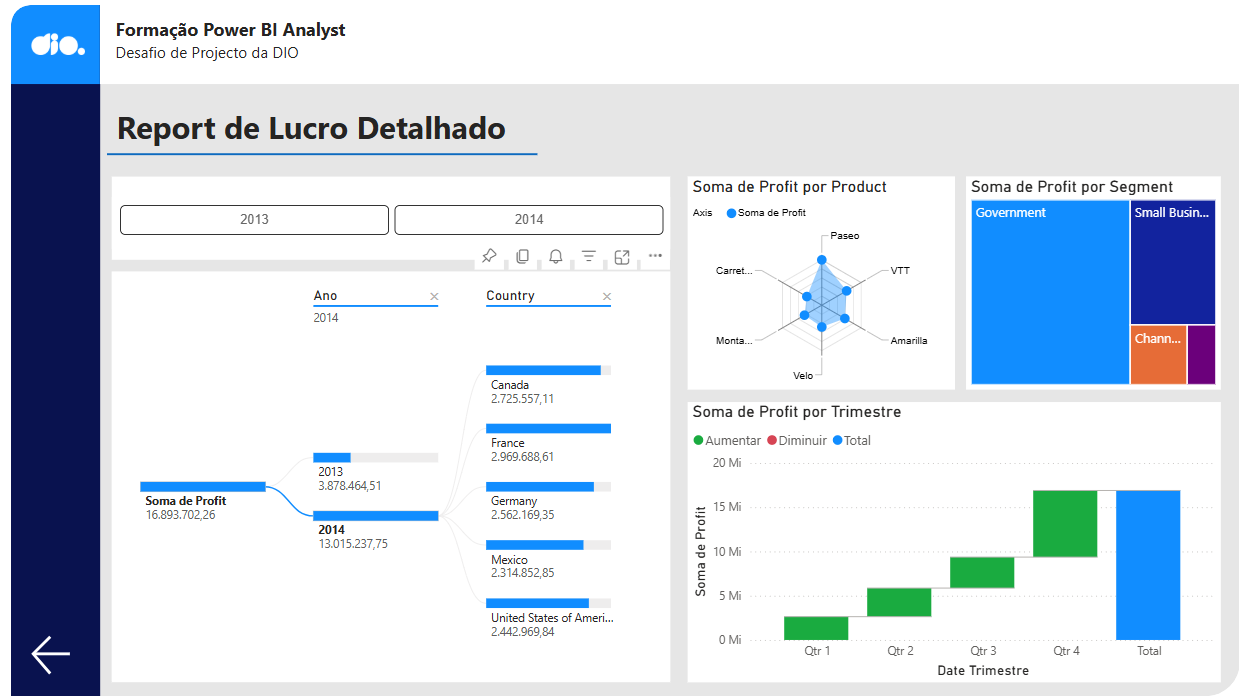

Layout of this report page (visuals, bound fields, positions):
{"tool":"powerbi","page":{"name":"Página 2","canvas":[1280,720],"ordinal":1},"visuals":[{"type":"shape","box":[0,0,1280,720],"z":0},{"type":"shape","box":[100,111.7,448.3,88.3],"z":0,"group":"g1"},{"type":"shape","box":[0,0,93.3,720],"z":1000},{"type":"textbox","box":[105.5,100,461.4,54.3],"z":1000,"group":"g1"},{"type":"shape","box":[0,0,92.9,82.9],"z":2000},{"type":"image","title":"dio_logo","box":[15.7,11.4,65.7,58.6],"z":3000},{"type":"shape","box":[92.9,0,1187.1,82.9],"z":4000},{"type":"textbox","box":[104.3,7.1,438.6,70],"z":5000},{"type":"group","id":"g1","title":"Title Report","box":[100,100,466.9,100],"z":6000},{"type":"actionButton","box":[16.7,648.3,51.6,56.7],"z":7000},{"type":"shape","box":[105,278.3,581.7,426.7],"z":8000},{"type":"shape","box":[705,413.3,555,291.7],"z":9000},{"type":"shape","box":[995,178.3,265,221.7],"z":10000},{"type":"shape","box":[105,178.3,581.7,86.7],"z":11000},{"type":"shape","box":[705,178.3,278.3,221.7],"z":12000},{"type":"ChicletSlicer1448559807354","fields":{"Category":["financials.Date.Variation.Hierarquia de datas.Ano"]},"box":[105,200,581.7,53.3],"z":13000},{"type":"decompositionTreeVisual","fields":{"Analyze":["Sum(financials.Profit)"],"ExplainBy":["financials.Date.Variation.Hierarquia de datas.Ano","financials.Country"]},"box":[105,278,582,427],"z":14000},{"type":"RadarChart1446119667547","fields":{"Y":["Sum(financials.Profit)"],"Category":["financials.Product"]},"box":[705,178.3,278.3,221.7],"z":15000},{"type":"treemap","fields":{"Values":["Sum(financials.Profit)"],"Group":["financials.Segment"]},"box":[995,178.3,265,221.7],"z":16000},{"type":"waterfallChart","fields":{"Y":["Sum(financials.Profit)"],"Category":["financials.Date.Variation.Hierarquia de datas.Trimestre"]},"box":[705,413.3,555,291.7],"z":17000}]}

Visuals, with their boxes on the page's 1280x720 design canvas (x1, y1, x2, y2). These are canvas units, not pixel positions in the 1246x700 screenshot, which may show the page scaled, cropped or inside an application window:
shape: (left=0, top=0, right=1280, bottom=720)
shape: (left=100, top=112, right=548, bottom=200)
shape: (left=0, top=0, right=93, bottom=720)
textbox: (left=106, top=100, right=567, bottom=154)
shape: (left=0, top=0, right=93, bottom=83)
"dio_logo" image: (left=16, top=11, right=81, bottom=70)
shape: (left=93, top=0, right=1280, bottom=83)
textbox: (left=104, top=7, right=543, bottom=77)
"Title Report" group: (left=100, top=100, right=567, bottom=200)
actionButton: (left=17, top=648, right=68, bottom=705)
shape: (left=105, top=278, right=687, bottom=705)
shape: (left=705, top=413, right=1260, bottom=705)
shape: (left=995, top=178, right=1260, bottom=400)
shape: (left=105, top=178, right=687, bottom=265)
shape: (left=705, top=178, right=983, bottom=400)
ChicletSlicer1448559807354 - financials.Date.Variation.Hierarquia de datas.Ano: (left=105, top=200, right=687, bottom=253)
decompositionTreeVisual - Sum(financials.Profit) x financials.Date.Variation.Hierarquia de datas.Ano: (left=105, top=278, right=687, bottom=705)
RadarChart1446119667547 - Sum(financials.Profit) x financials.Product: (left=705, top=178, right=983, bottom=400)
treemap - Sum(financials.Profit) x financials.Segment: (left=995, top=178, right=1260, bottom=400)
waterfallChart - Sum(financials.Profit) x financials.Date.Variation.Hierarquia de datas.Trimestre: (left=705, top=413, right=1260, bottom=705)
